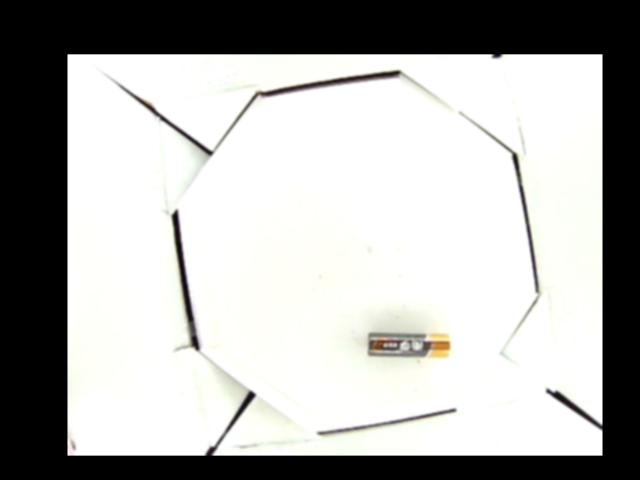Battery: (365, 333, 452, 356)
